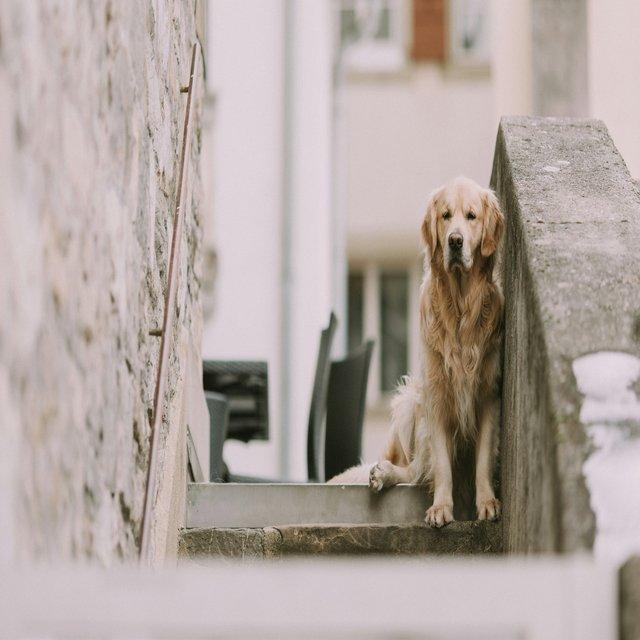retriever: (330, 176, 514, 524)
